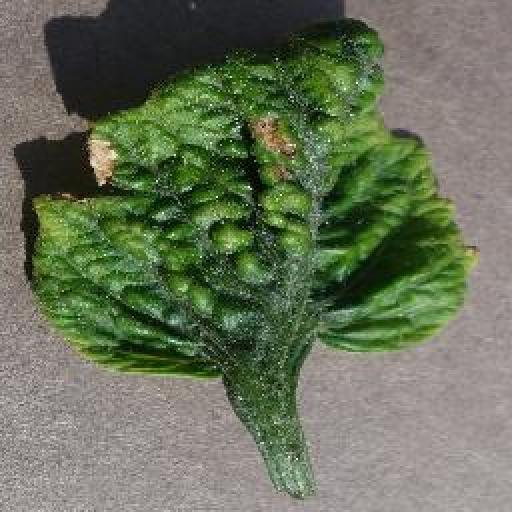Yellow Leaf Curl Virus: (28, 17, 475, 379)
